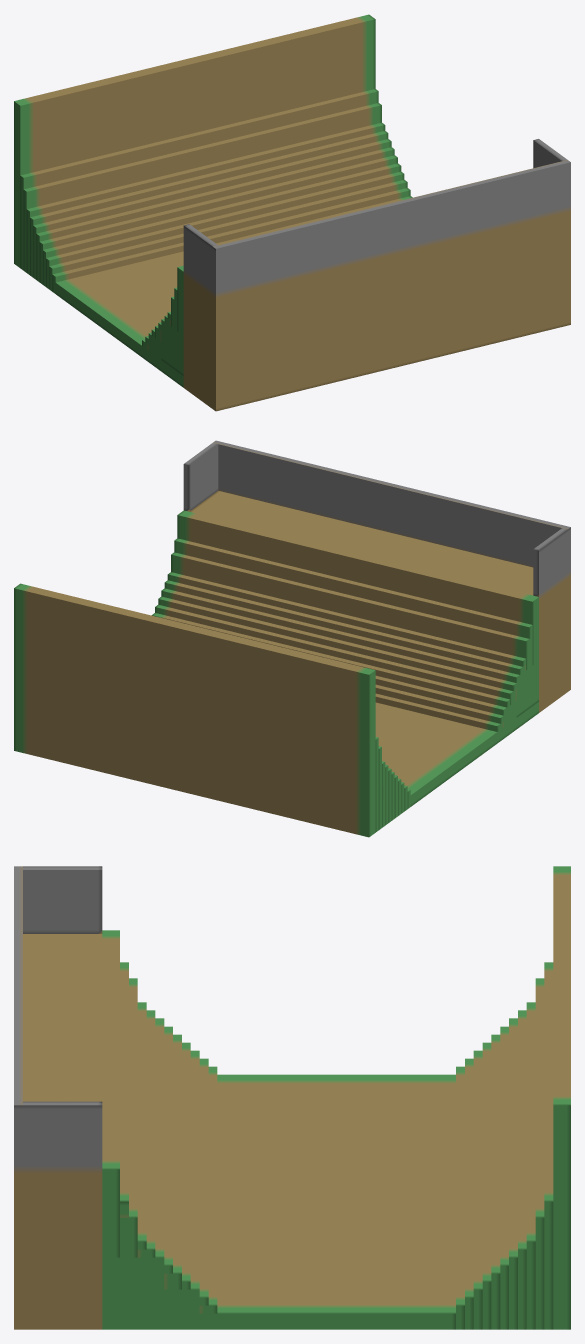
The picture shows the model from 3 angles, top to bottom: view 1: azimuth 30°, elevation 25°; view 2: azimuth 150°, elevation 25°; view 3: azimuth 270°, elevation 25°; orthographic projection. The views are drawn at different scales.
Parts seen in each view (by area): view 1: Content; view 2: Content; view 3: Content.
Part boxes in pixels (x1,y1,x2,y2): Content: [14, 14, 570, 411]; Content: [14, 440, 570, 837]; Content: [14, 866, 570, 1329].
Bounding box in the file's own units: 64 × 28 × 63.
1 material, 1 textured.
